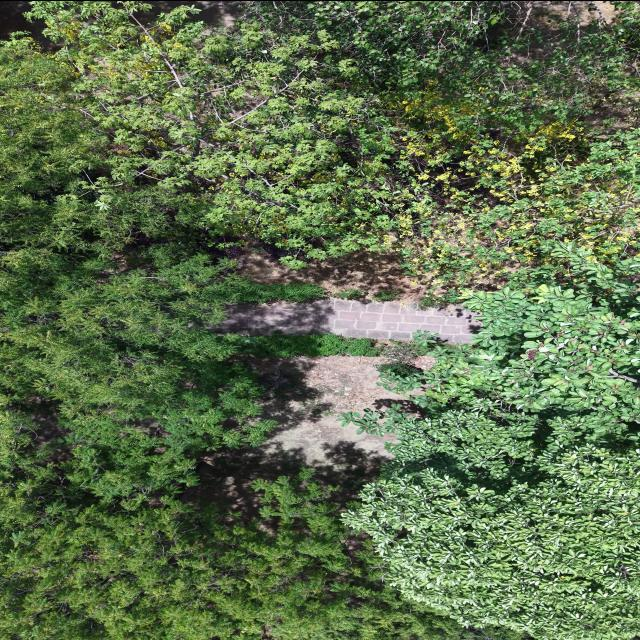DRY_AREA: (186, 356, 409, 517), (185, 356, 409, 512), (183, 356, 404, 514), (182, 355, 405, 510), (182, 355, 409, 507), (187, 355, 409, 509), (215, 247, 479, 342), (253, 356, 404, 466), (256, 356, 404, 464), (261, 356, 405, 465), (220, 237, 445, 300), (232, 246, 431, 299), (500, 1, 619, 63), (503, 1, 618, 63), (329, 298, 478, 342), (213, 299, 332, 334), (505, 1, 617, 35), (511, 1, 617, 27), (0, 1, 54, 48), (192, 1, 241, 34)
PATHWAYS: (214, 298, 480, 342)
VEGETATION_TREE: (0, 1, 639, 639), (1, 246, 465, 639), (24, 1, 637, 289), (0, 38, 375, 497), (343, 254, 639, 639), (1, 243, 371, 496), (1, 470, 471, 639)
